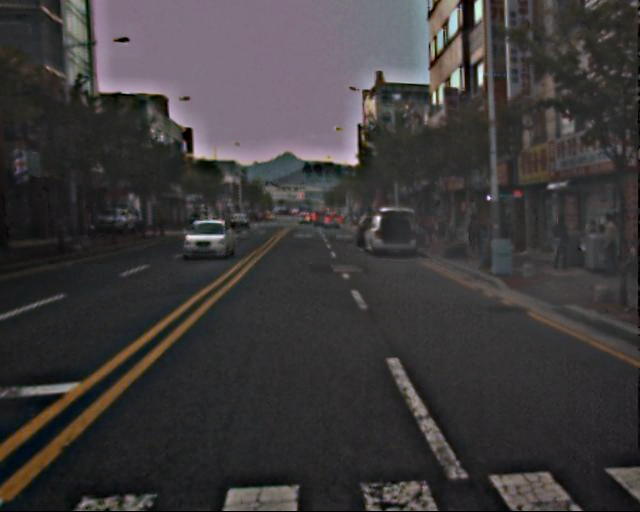person: (595, 214, 622, 273), (549, 217, 572, 272), (467, 210, 486, 258), (416, 209, 444, 241)
